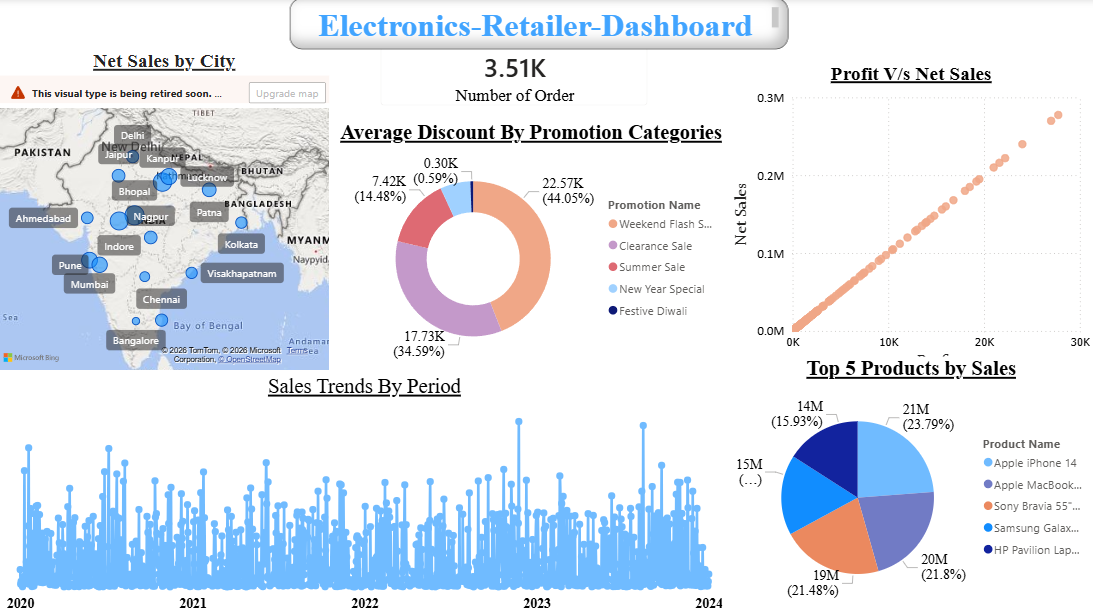

The page's visual inventory and layout, read from the dashboard file:
{"tool":"powerbi","page":{"name":"Overview","canvas":[1280,720],"ordinal":0},"visuals":[{"type":"lineChart","title":"Sales Trends By Period","fields":{"Category":["Fact Table.Date (dd/mm/yyyy).Variation.Date Hierarchy.Year"],"Y":["Sum(Fact Table.Net Sales)"]},"box":[9.2,438.2,844.1,283.7],"z":0},{"type":"scatterChart","title":"Profit V/s Net Sales","fields":{"X":["Fact Table.Profit"],"Y":["Fact Table.Net Sales"]},"box":[853.3,73.8,426.7,364.4],"z":1000},{"type":"donutChart","title":"Average Discount By Promotion Categories","fields":{"Category":["Dim Promotion.Promotion Name"],"Y":["Avg(Fact Table.Discount Value)"]},"box":[394.9,142.7,459,295.7],"z":2000},{"type":"map","fields":{"Category":["Dim Customers.City"],"Size":["Sum(Fact Table.Net Sales)"]},"box":[0,60,394.4,378.2],"z":3000},{"type":"cardVisual","fields":{"Data":["CountNonNull(Fact Table.Index)"]},"box":[432.1,39.3,345.3,103.4],"z":4000},{"type":"pieChart","title":"Top 5 Products by Sales","fields":{"Category":["Dim Product.Product Name"],"Y":["Sum(Fact Table.Net Sales)"]},"box":[853.3,417.4,426.7,302.1],"z":5000},{"type":"textbox","box":[343.2,0,581,60],"z":6000}]}

Visuals, with their boxes in screenshot pixels (x1, y1, x2, y2), scaled from the page's 1280x720 canvas onto the 1093x616 screenshot:
"Sales Trends By Period" lineChart: (8,375,729,615)
"Profit V/s Net Sales" scatterChart: (729,63,1092,375)
"Average Discount By Promotion Categories" donutChart: (337,122,729,375)
map - Dim Customers.City x Sum(Fact Table.Net Sales): (0,51,337,375)
cardVisual - CountNonNull(Fact Table.Index): (369,34,664,122)
"Top 5 Products by Sales" pieChart: (729,357,1092,615)
textbox: (293,0,789,51)
